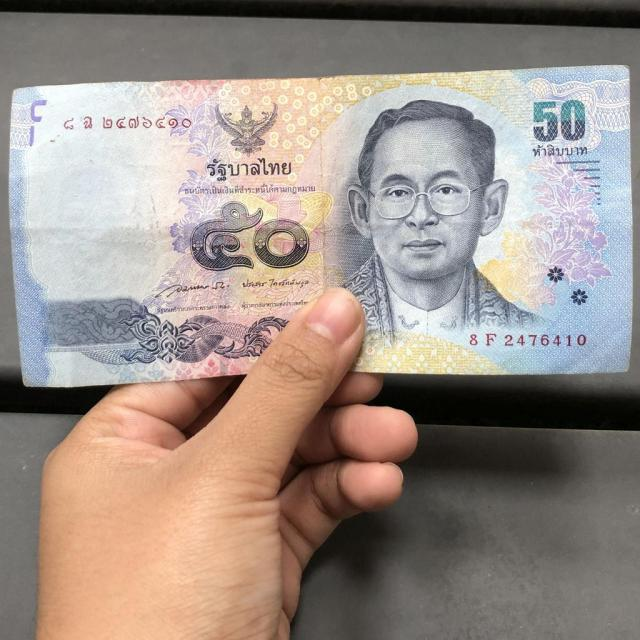THAI50: (10, 66, 632, 388)
